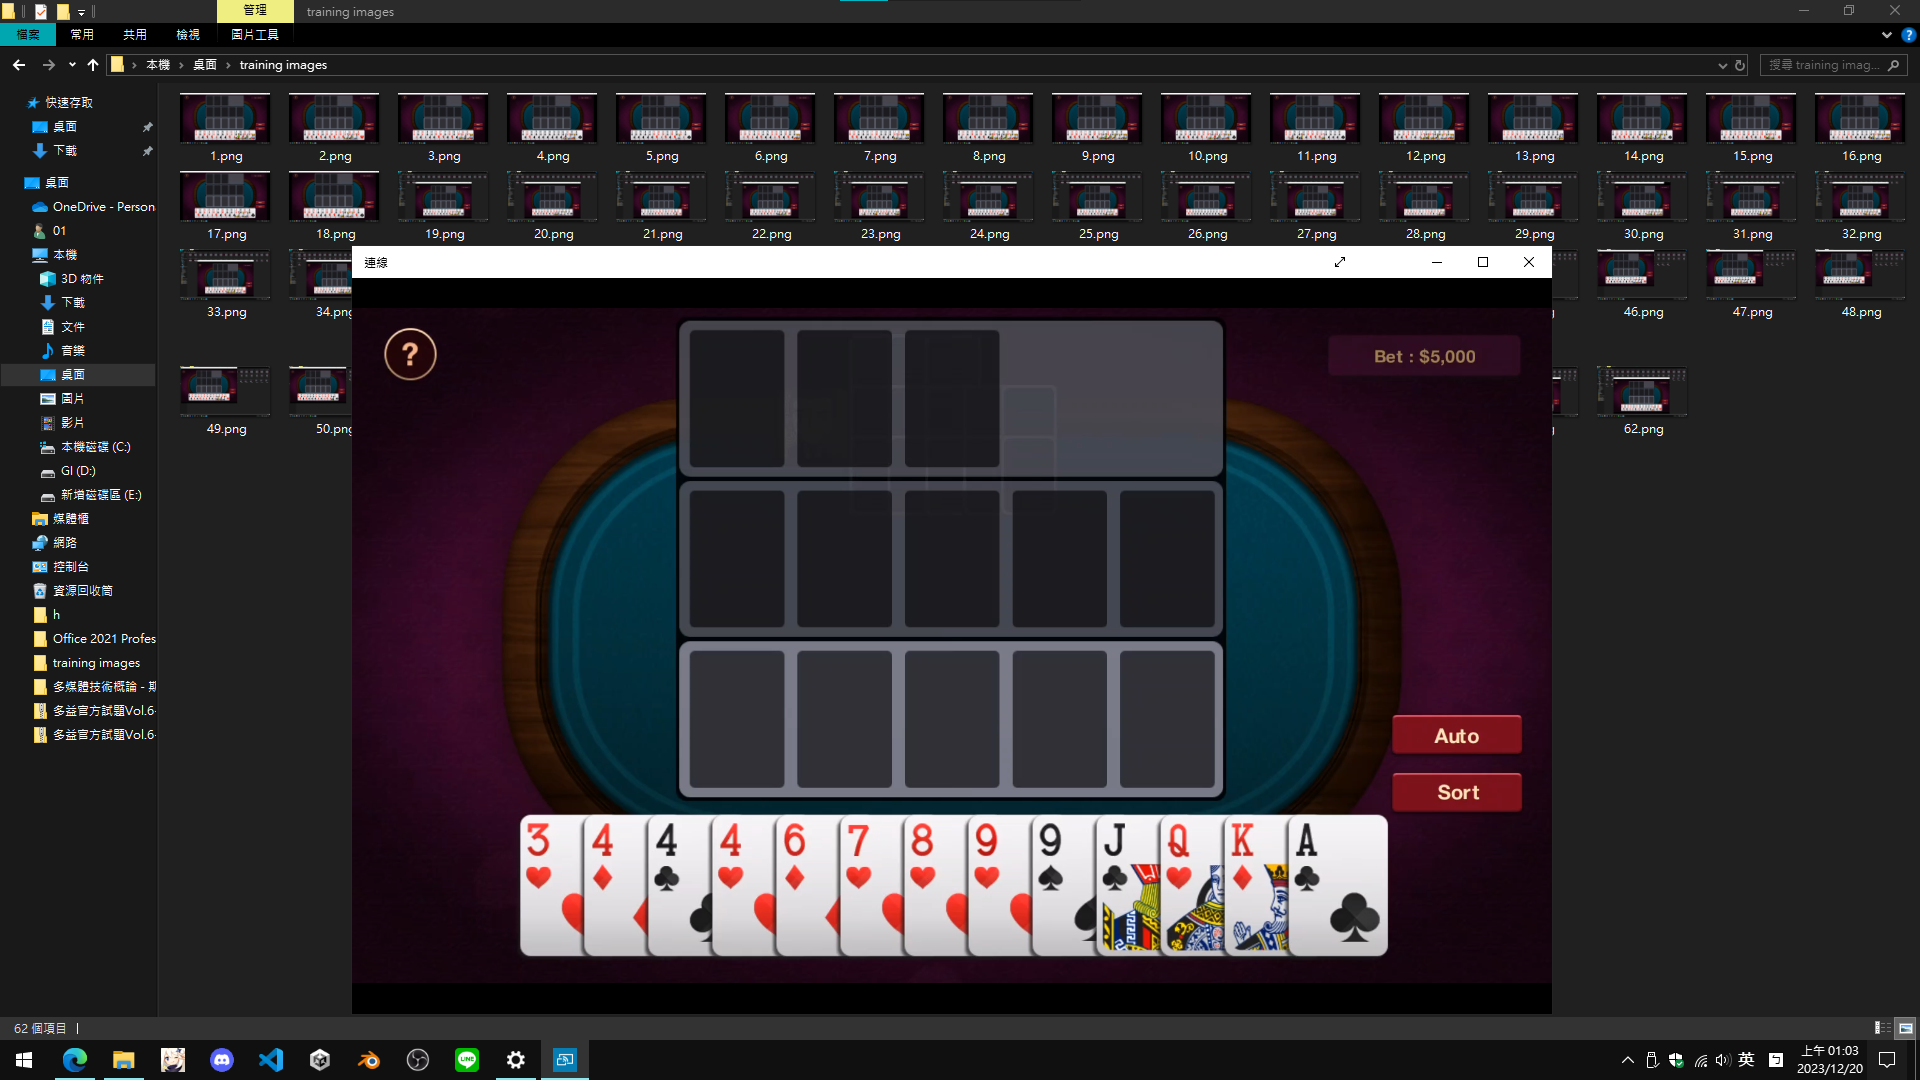3H: (524, 819, 554, 893)
4C: (651, 822, 683, 897)
4D: (588, 819, 618, 894)
4H: (715, 818, 749, 891)
6D: (782, 823, 808, 897)
7H: (845, 822, 874, 893)
8H: (907, 819, 939, 890)
9H: (972, 820, 1002, 893)
9S: (1035, 819, 1065, 893)
AC: (1292, 819, 1321, 894)
JC: (1101, 819, 1129, 893)
KD: (1228, 820, 1257, 894)
QH: (1164, 820, 1197, 891)
